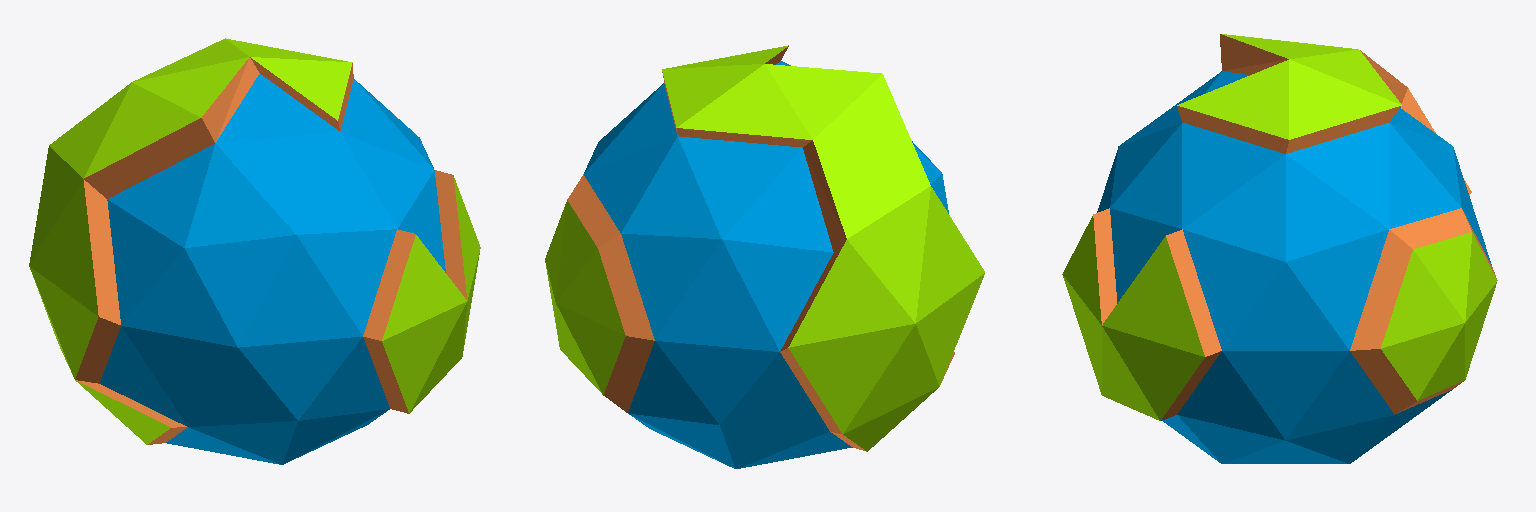
3 views of the same model, side by side, from view 1: azimuth 30°, elevation 25°; view 2: azimuth 150°, elevation 25°; view 3: azimuth 270°, elevation 25° (orthographic).
Visible parts, largest first — view 1: Icosphere; view 2: Icosphere; view 3: Icosphere.
Part boxes in pixels (x1,y1,x2,y2): Icosphere: (29, 38, 480, 464); Icosphere: (545, 45, 984, 468); Icosphere: (1062, 34, 1497, 463).
Size of the model in its own units: 2.09 by 2.09 by 2.1.
Materials: 1 (1 with a texture image).